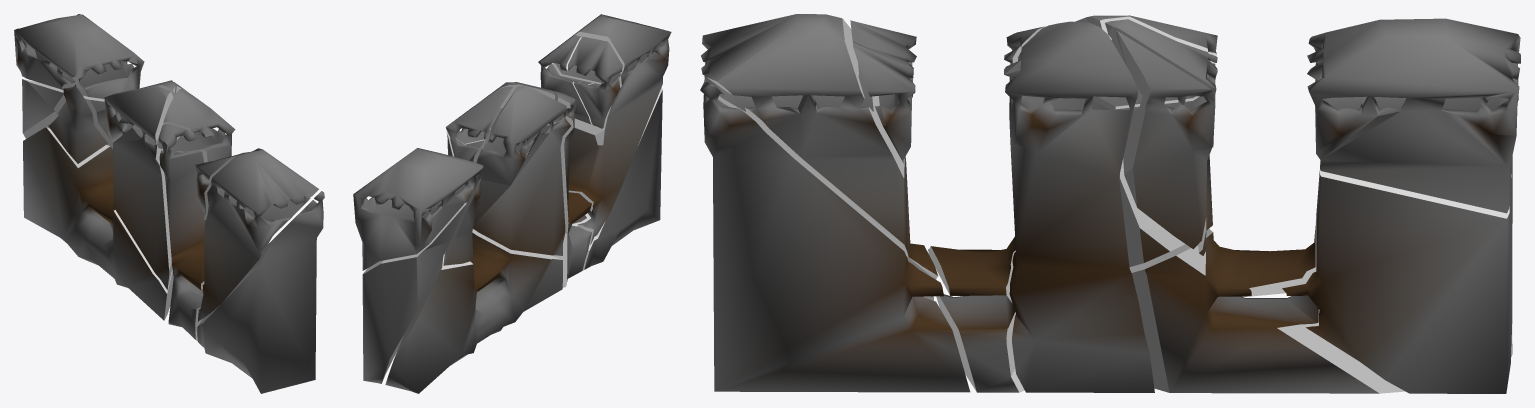
The model's file is Medieval Walls(1).glb.
3 views of the same model, side by side, from view 1: azimuth 30°, elevation 25°; view 2: azimuth 150°, elevation 25°; view 3: azimuth 270°, elevation 25° (orthographic). The views are drawn at different scales.
Visible parts, largest first — view 1: id0.004, id0, id0.011, id0.007, id0.002, id0.001, id0.008, id0.009, id0.006, id0.012; view 2: id0, id0.007, id0.011, id0.002, id0.009, id0.004, id0.001, id0.012, id0.003, id0.005, id0.006, id0.010 (+1 smaller); view 3: id0.004, id0.008, id0.009, id0.002, id0, id0.011, id0.010, id0.001, id0.007, id0.005, id0.003, id0.012.
Part boxes in pixels (x1=…): id0.004: x1=197, y1=191, x2=324, y2=393; id0: x1=23, y1=127, x2=173, y2=320; id0.011: x1=198, y1=149, x2=318, y2=321; id0.007: x1=104, y1=86, x2=179, y2=290; id0.002: x1=14, y1=14, x2=144, y2=99; id0.001: x1=158, y1=124, x2=205, y2=340; id0.008: x1=163, y1=89, x2=235, y2=162; id0.009: x1=22, y1=79, x2=112, y2=148; id0.006: x1=48, y1=84, x2=107, y2=163; id0.012: x1=195, y1=151, x2=254, y2=219; id0: x1=385, y1=229, x2=562, y2=393; id0.007: x1=473, y1=86, x2=570, y2=255; id0.011: x1=552, y1=14, x2=671, y2=244; id0.002: x1=353, y1=148, x2=483, y2=270; id0.009: x1=362, y1=202, x2=466, y2=383; id0.004: x1=571, y1=14, x2=662, y2=270; id0.001: x1=549, y1=90, x2=591, y2=287; id0.012: x1=567, y1=36, x2=622, y2=128; id0.003: x1=445, y1=86, x2=512, y2=179; id0.005: x1=538, y1=35, x2=593, y2=124; id0.006: x1=443, y1=176, x2=482, y2=265; id0.010: x1=446, y1=90, x2=497, y2=156; id0.004: x1=700, y1=81, x2=970, y2=392; id0.008: x1=1004, y1=21, x2=1154, y2=392; id0.009: x1=1282, y1=156, x2=1512, y2=393; id0.002: x1=1307, y1=18, x2=1520, y2=213; id0: x1=1129, y1=219, x2=1512, y2=393; id0.011: x1=701, y1=14, x2=938, y2=300; id0.010: x1=1111, y1=31, x2=1214, y2=249; id0.001: x1=928, y1=26, x2=1045, y2=392; id0.007: x1=1075, y1=15, x2=1217, y2=267; id0.005: x1=852, y1=42, x2=915, y2=163; id0.003: x1=1105, y1=19, x2=1217, y2=255; id0.012: x1=850, y1=20, x2=916, y2=97.
Size of the model in its own units: 8.34 by 22.25 by 46.64.
